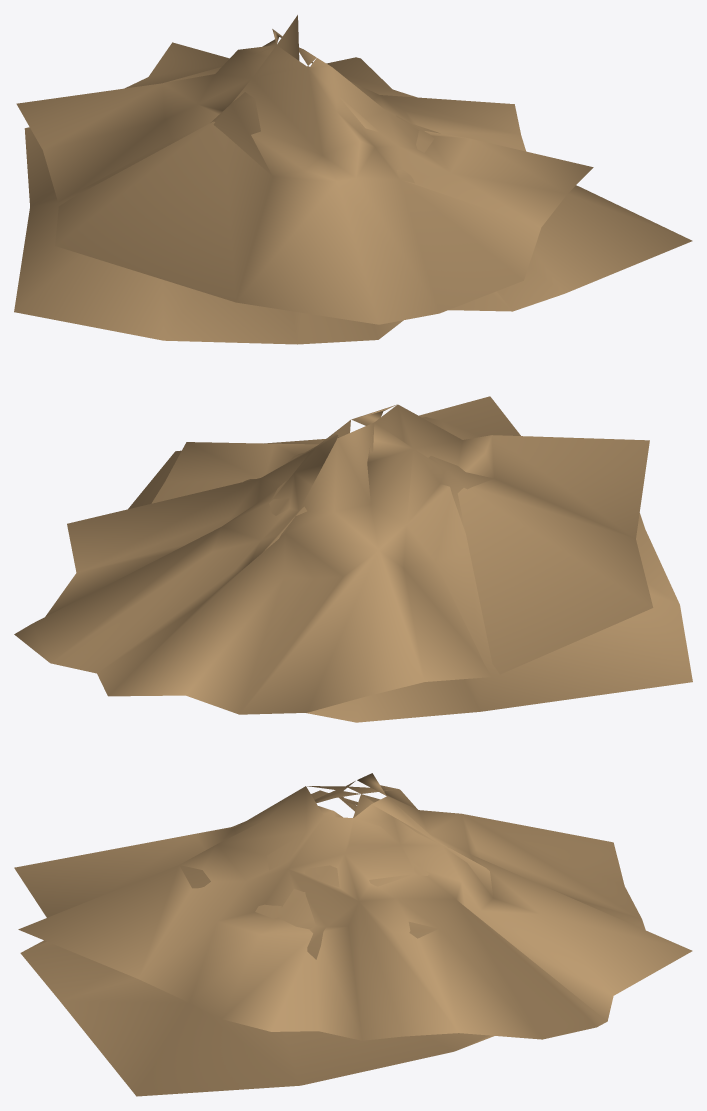
The model's file is carpa_f_lejos.glb.
3 renders of one model, top to bottom at view 1: azimuth 30°, elevation 25°; view 2: azimuth 150°, elevation 25°; view 3: azimuth 270°, elevation 25°, orthographic. The views are drawn at different scales.
Visible parts, largest first — view 1: carpa_f_lejos; view 2: carpa_f_lejos; view 3: carpa_f_lejos.
Boxes of the visible parts, bbox=[...] form: carpa_f_lejos: bbox=[14, 15, 692, 344]; carpa_f_lejos: bbox=[14, 396, 692, 722]; carpa_f_lejos: bbox=[14, 773, 692, 1096].
Size of the model in its own units: 11.62 by 4.99 by 12.34.
